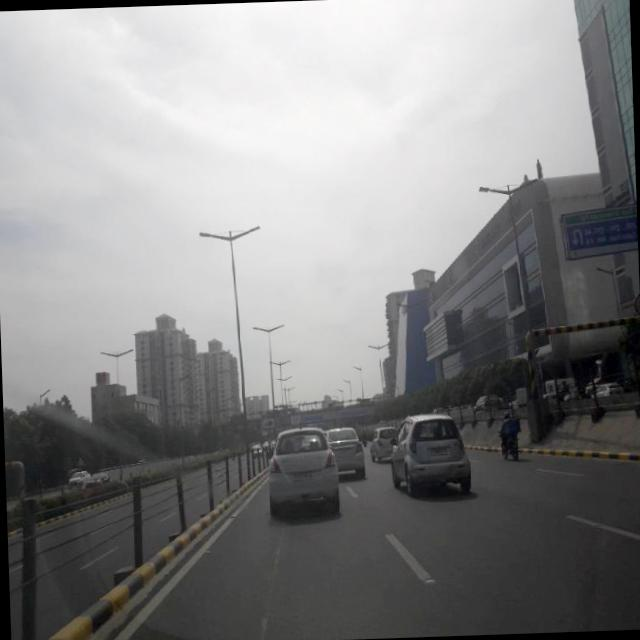pothole: (246, 514, 290, 638)
